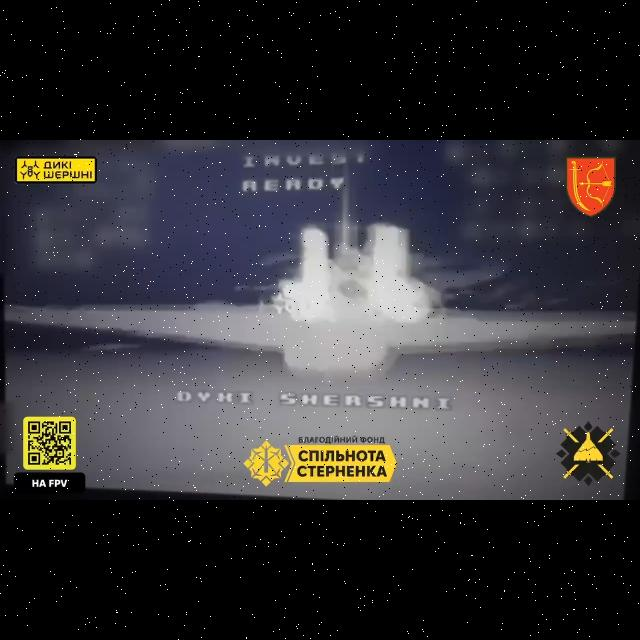Gerbera: (3, 218, 634, 380)
